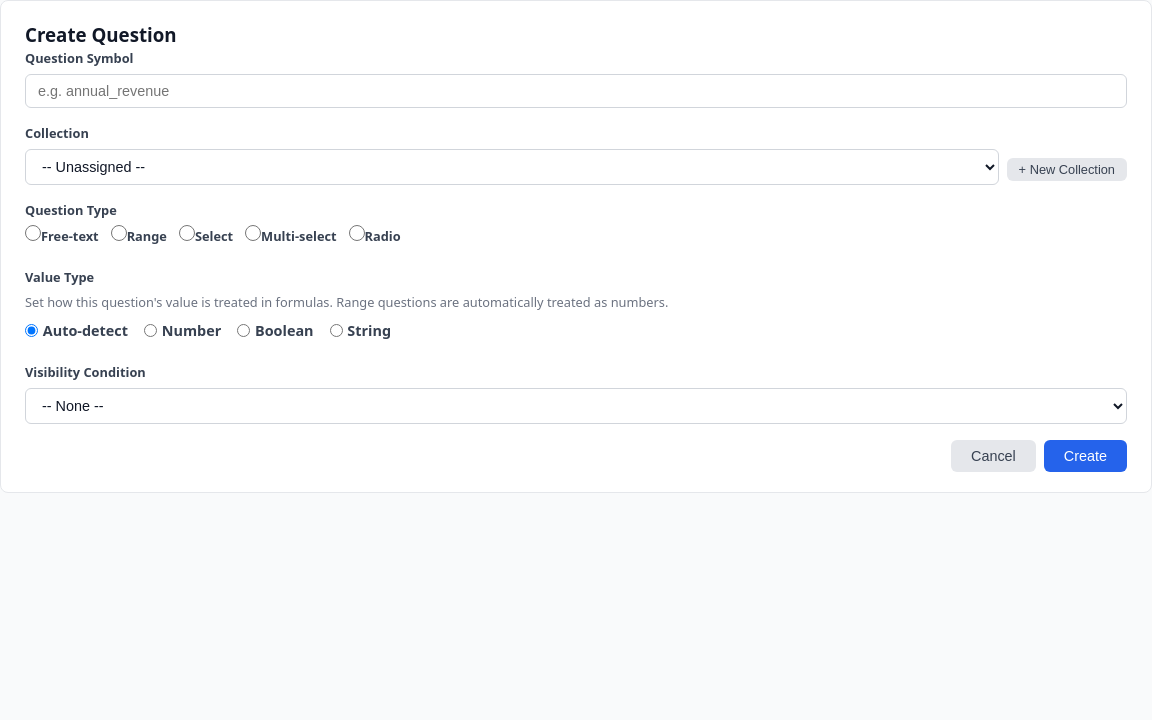
QuestionForm › given an invalid symbol › when submitted, then shows symbol pattern validation error
Type "hello world" into the field labelled "Question Symbol" at {"x": 576, "y": 91}, box [25, 74, 1127, 108]
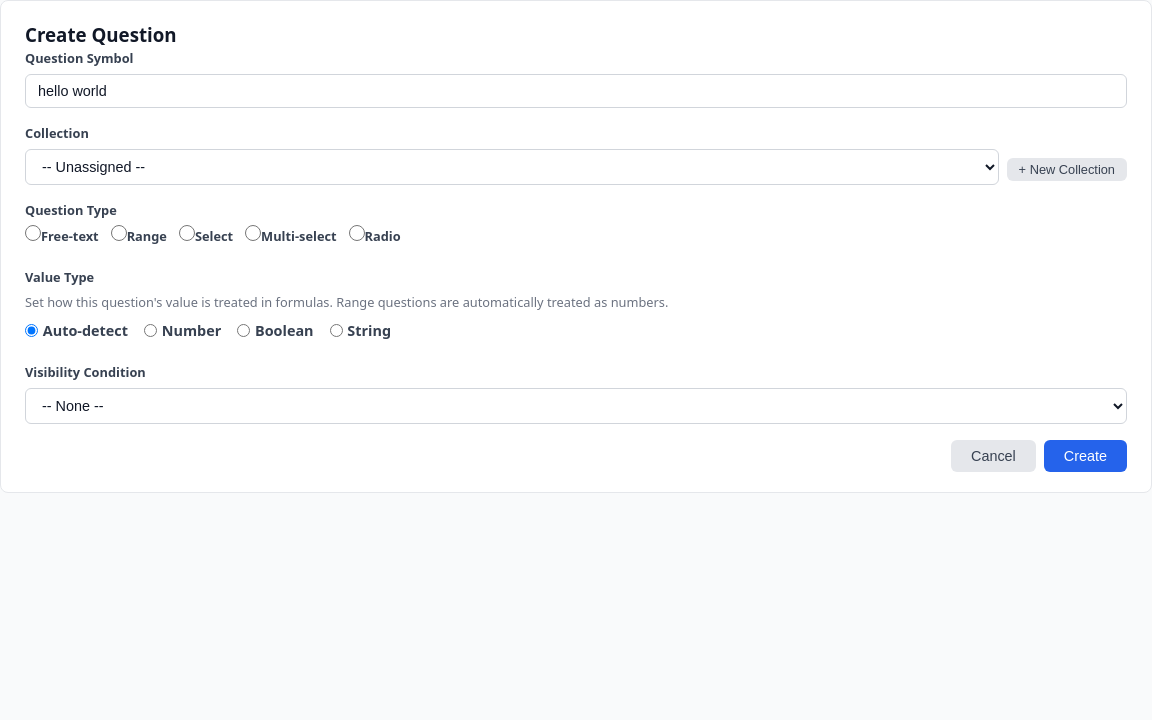
Click the button "Create" at {"x": 1085, "y": 456}, box [1044, 440, 1127, 472]
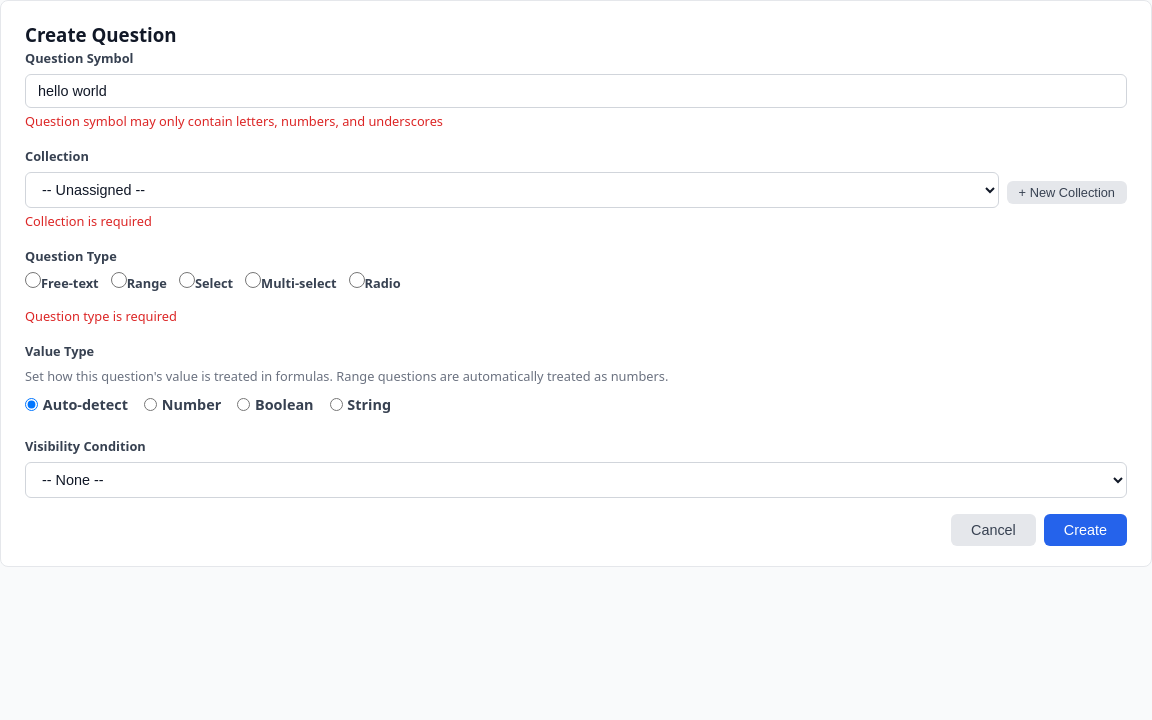
Check: the text "Question symbol may only contain letters, numbers, and underscores" is shown, box [25, 112, 443, 130]
